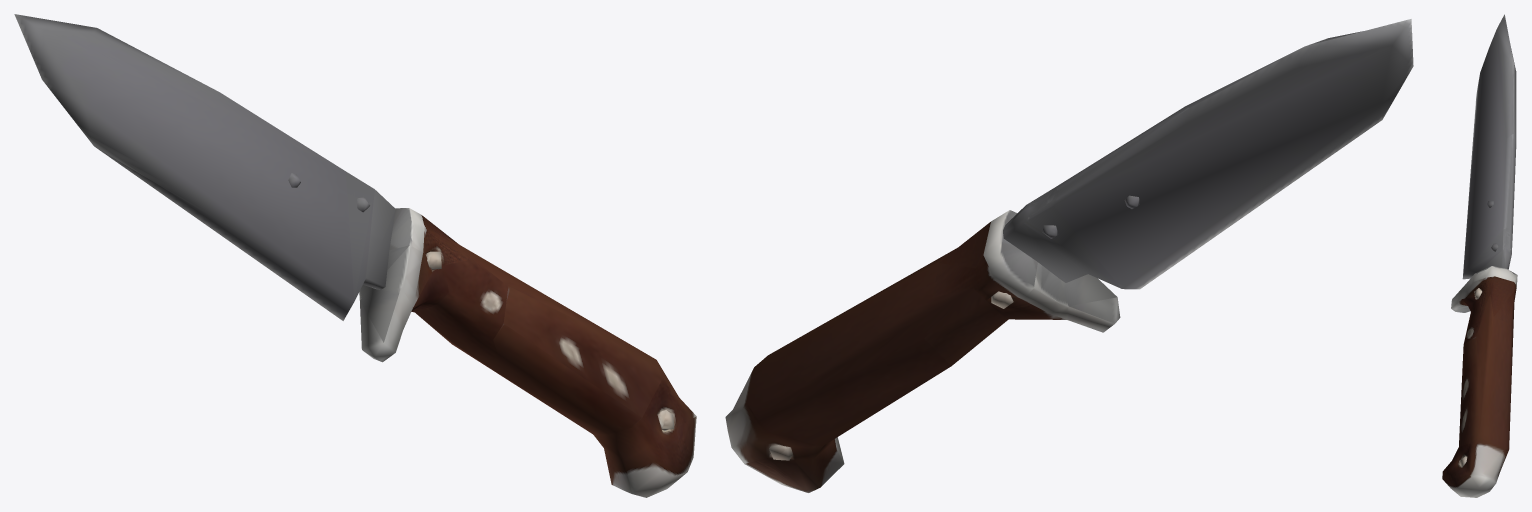
File: kitchen_knife.glb
3 renders of one model, left to right at view 1: azimuth 30°, elevation 25°; view 2: azimuth 150°, elevation 25°; view 3: azimuth 270°, elevation 25°, orthographic. The views are drawn at different scales.
Parts seen in each view (by area): view 1: kitchen_knife_LOD0; view 2: kitchen_knife_LOD0; view 3: kitchen_knife_LOD0.
Boxes of the visible parts, x1,y1,x2,y2 form: kitchen_knife_LOD0: (14,14,696,497); kitchen_knife_LOD0: (725,19,1413,492); kitchen_knife_LOD0: (1442,14,1517,497).
Bounding box in the file's own units: 0.3 × 0.264 × 0.0555.
1 material, 1 textured.
